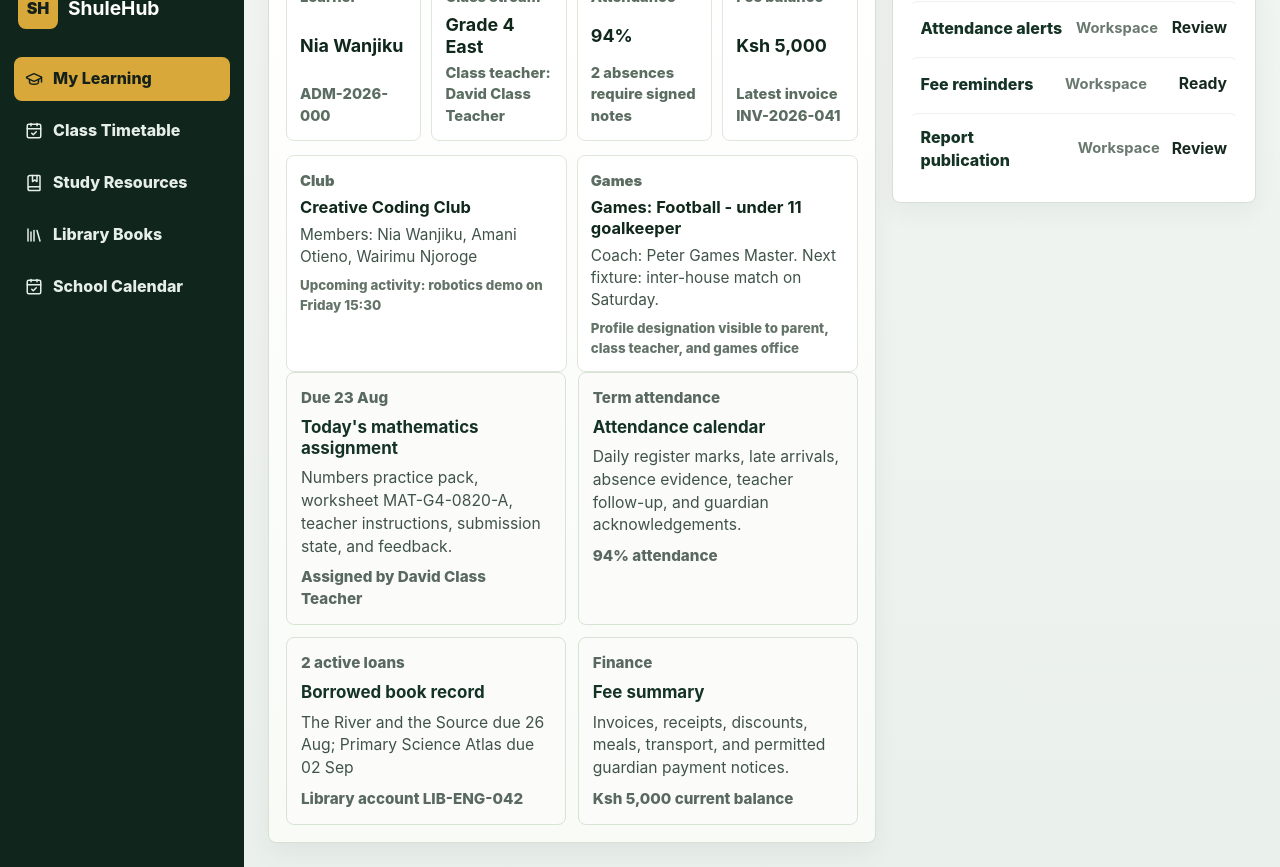
Test: App › learner role opens a dedicated student portal with clickable school tasks
The image size is (1280, 867).
(page scrolled)
Expected: the text "Nia Wanjiku" is shown, x1=300 y1=36 x2=407 y2=57
Expected: the text "Grade 4 East" is shown, x1=445 y1=14 x2=515 y2=56
What coordinates should you click on to do the following:
click the button with aria-label "Open today's mathematics assignment"
I would click on:
 (426, 499)
Its box is x1=286 y1=372 x2=566 y2=625.
(page scrolled)
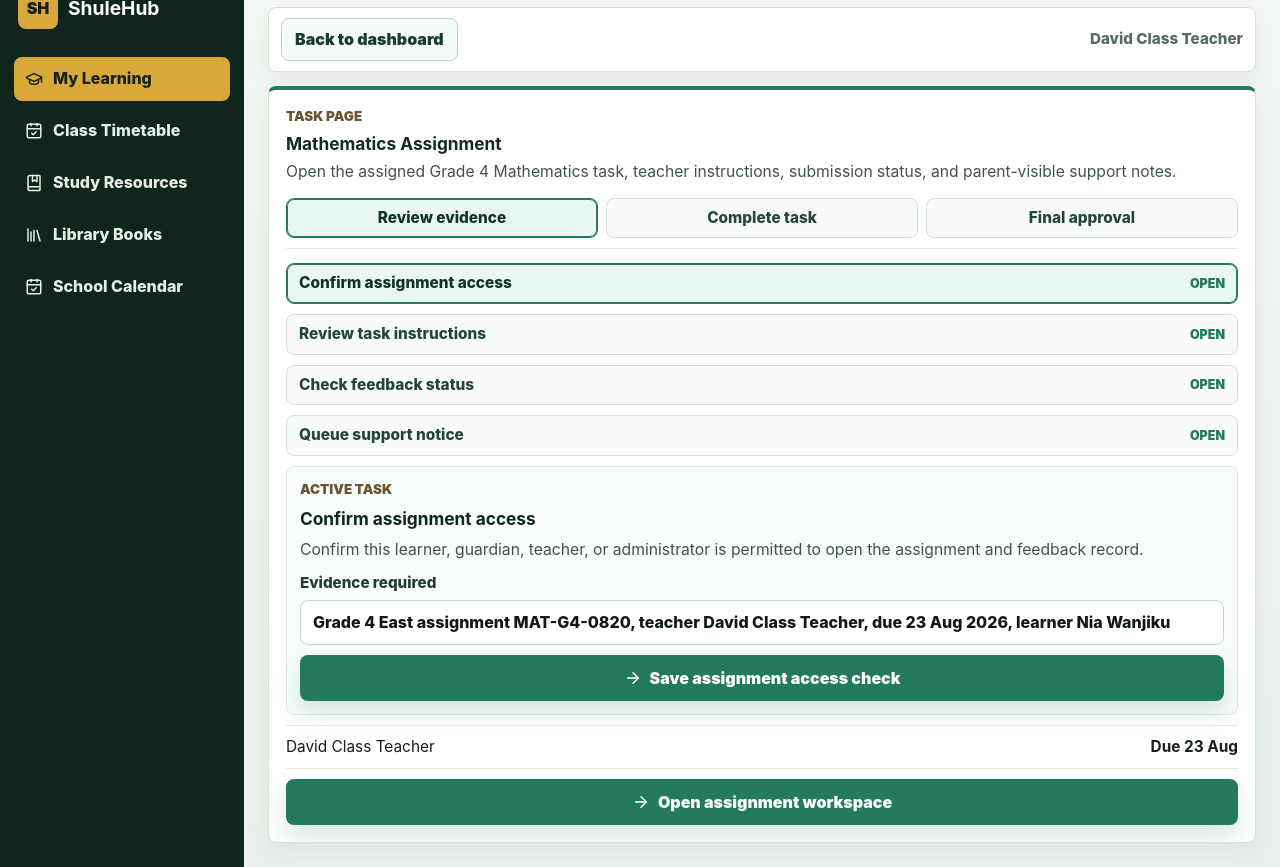
Expected: the heading "Mathematics Assignment" is shown, x1=286 y1=133 x2=502 y2=154
Now the field labelled "Evidence required" holds "Grade 4 East assignment MAT-G4-0820, teacher David Class Teacher, due 23 Aug 2026, learner Nia Wanjiku", box x1=300 y1=600 x2=1224 y2=645
